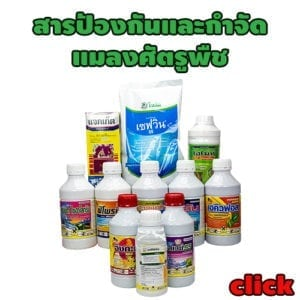Insecticide: (116, 76, 187, 167), (159, 192, 198, 289), (58, 161, 98, 253), (167, 160, 205, 249), (205, 159, 242, 247), (94, 160, 131, 248), (109, 194, 141, 291), (79, 104, 126, 170), (135, 209, 170, 297), (183, 111, 221, 163), (133, 158, 168, 213)
